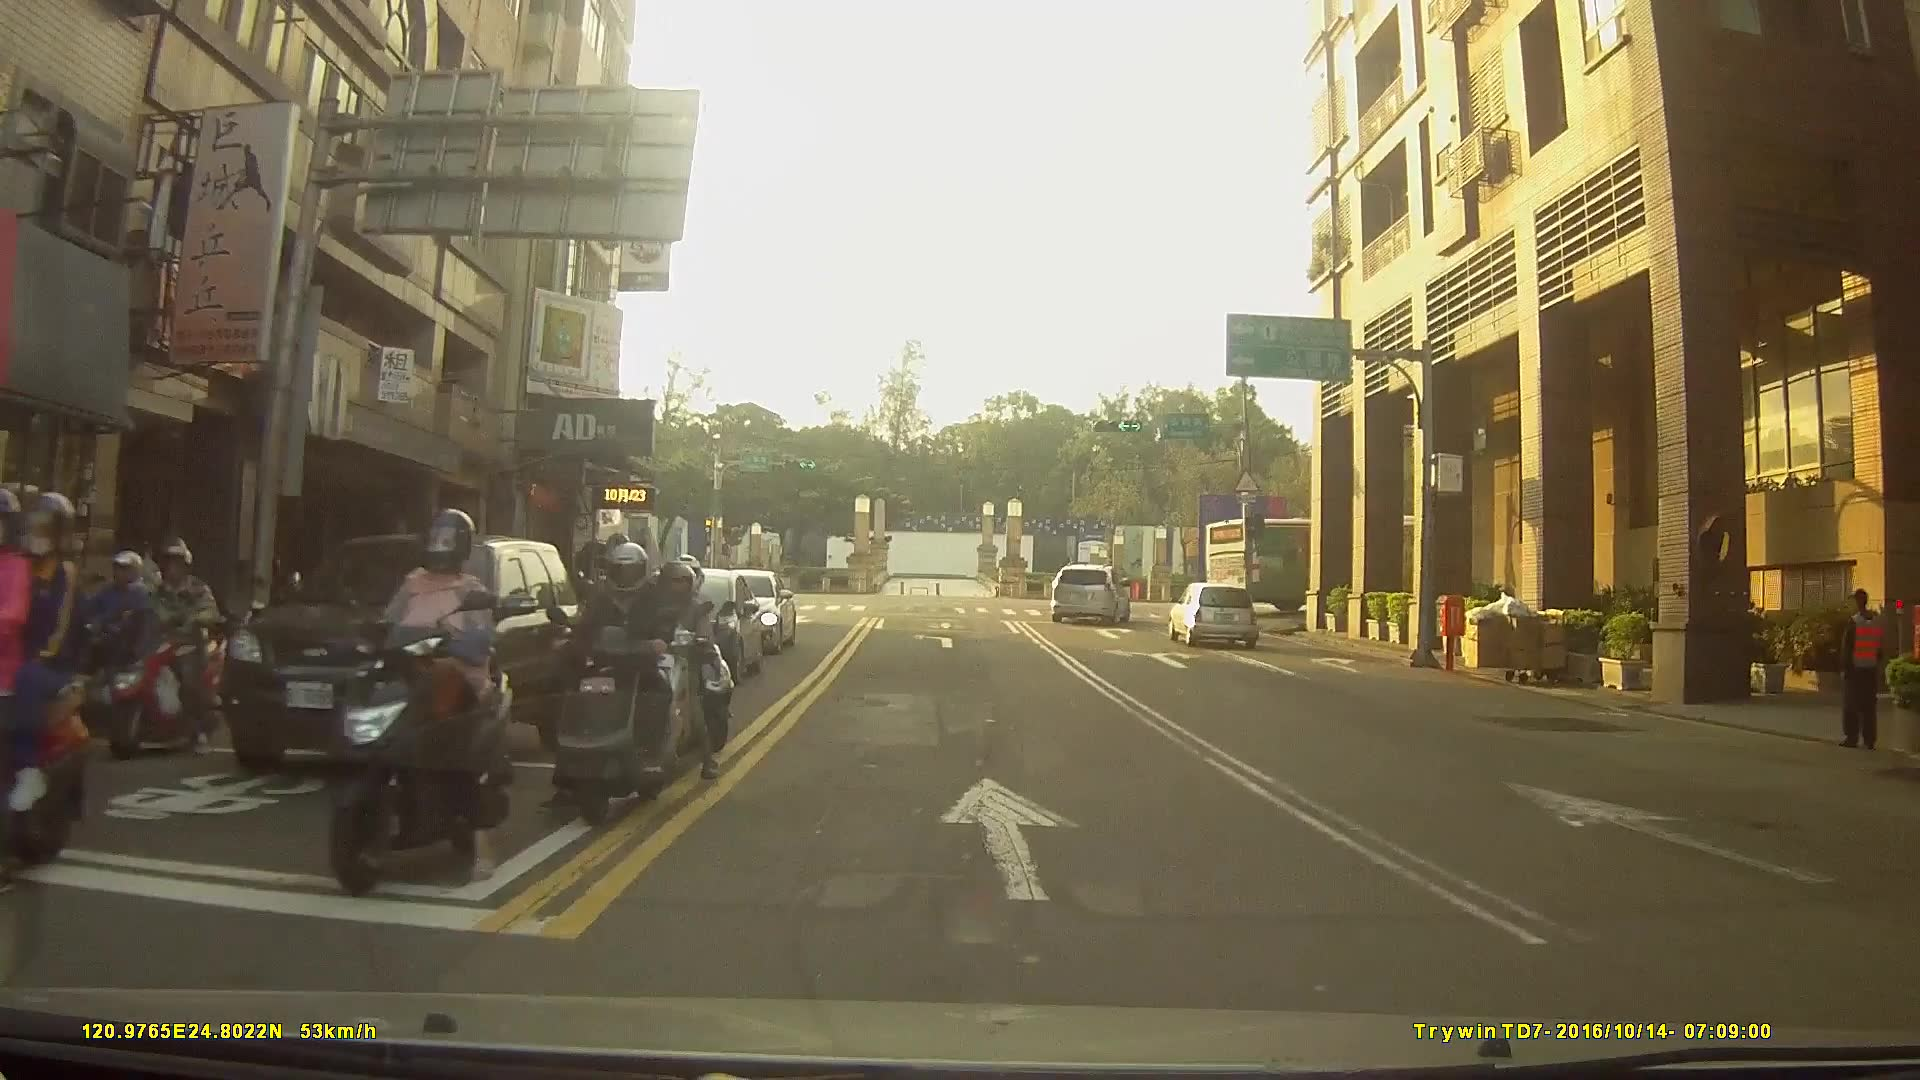pedestrian: (1838, 579, 1888, 760)
rider: (335, 514, 526, 894), (1, 488, 101, 880), (547, 542, 682, 831), (91, 544, 233, 763)
vehicle: (215, 534, 582, 776), (1205, 515, 1471, 609), (1166, 579, 1261, 648), (1049, 561, 1129, 622)
